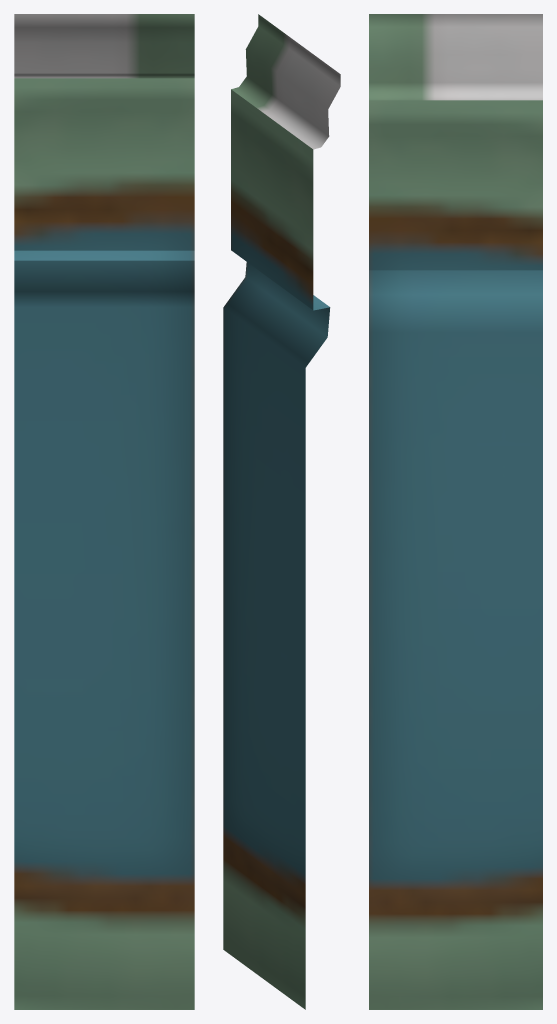
The model's file is qVin_Buld1_F2Trim1_Right.fbx.
3 views of the same model, side by side, from view 1: azimuth 90°, elevation 25°; view 2: azimuth 210°, elevation 25°; view 3: azimuth 270°, elevation 25° (orthographic). The views are drawn at different scales.
Visible parts, largest first — view 1: qVin_Buld1_F2Trim1_Right; view 2: qVin_Buld1_F2Trim1_Right; view 3: qVin_Buld1_F2Trim1_Right.
Boxes of the visible parts, box(x1,y1,x2,y2) form: qVin_Buld1_F2Trim1_Right: box(14, 14, 194, 1009); qVin_Buld1_F2Trim1_Right: box(223, 14, 340, 1009); qVin_Buld1_F2Trim1_Right: box(369, 14, 542, 1009).
Bounding box in the file's own units: 12.26 × 310 × 49.97.
Materials: 1 (1 with a texture image).
